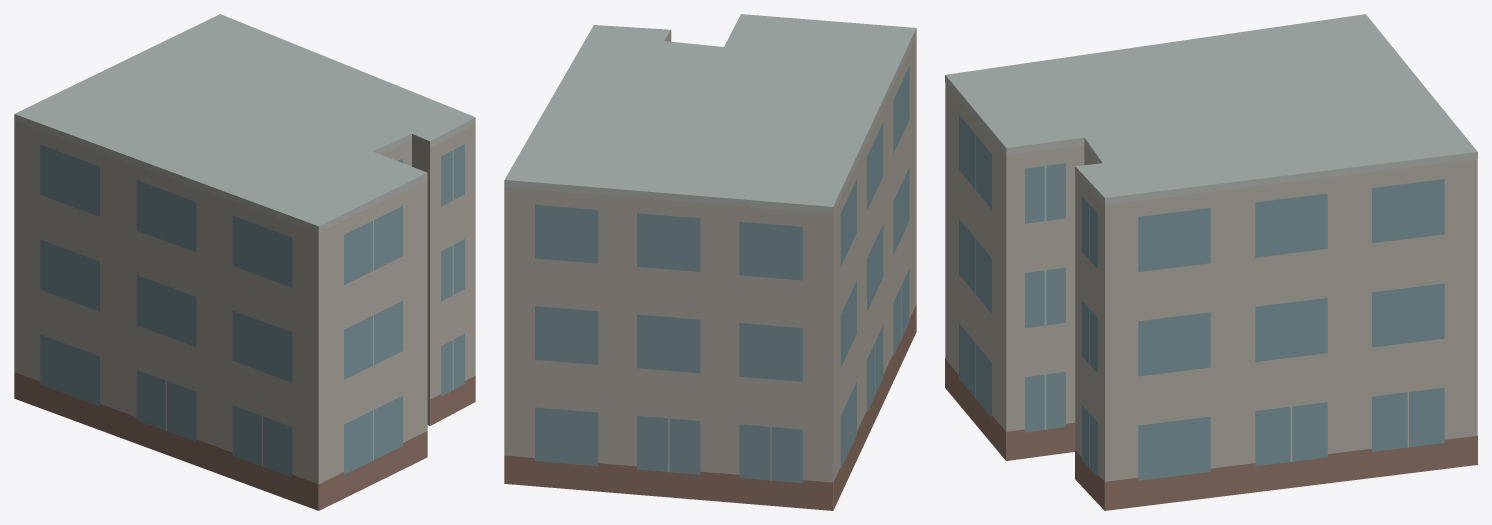
File: survey-upis-33015218.glb
3 views of the same model, side by side, from view 1: azimuth 30°, elevation 25°; view 2: azimuth 150°, elevation 25°; view 3: azimuth 270°, elevation 25° (orthographic). The views are drawn at different scales.
Parts seen in each view (by area): view 1: survey-upis-33015218.tmp; view 2: survey-upis-33015218.tmp; view 3: survey-upis-33015218.tmp.
Part boxes in pixels (x1=…): survey-upis-33015218.tmp: x1=14, y1=14, x2=475, y2=510; survey-upis-33015218.tmp: x1=504, y1=14, x2=916, y2=510; survey-upis-33015218.tmp: x1=945, y1=14, x2=1477, y2=510.
Size of the model in its own units: 13.12 by 10.4 by 16.05.
